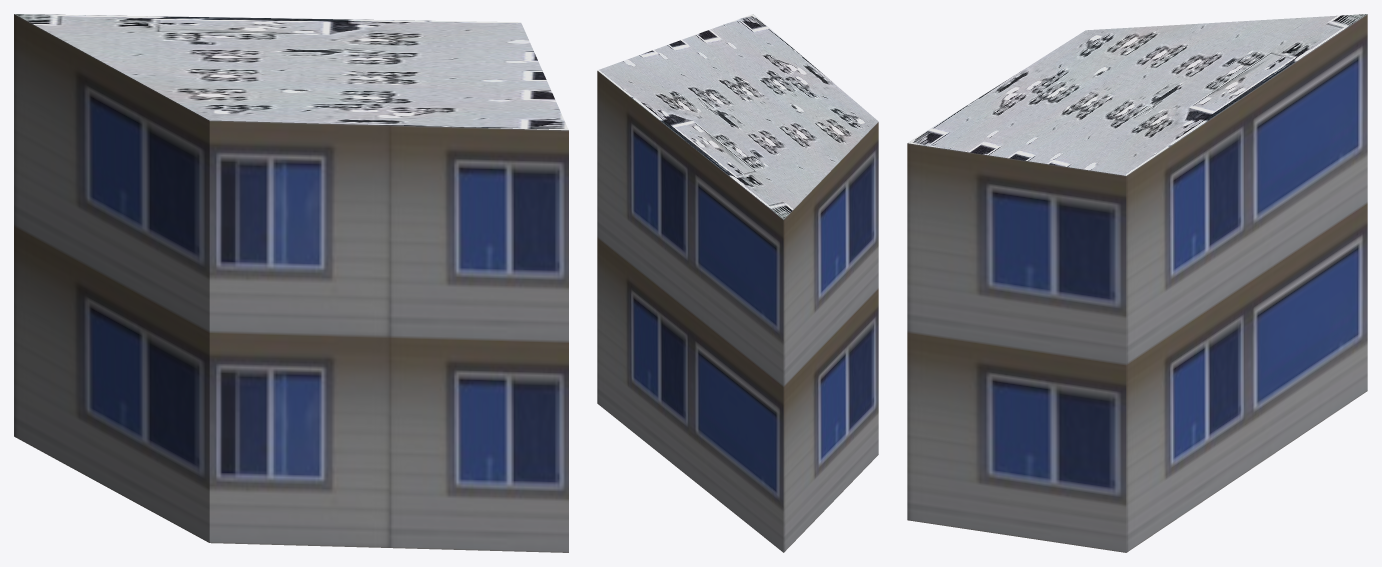
Rendered from ResTex__4672.fbx.
3 renders of one model, left to right at view 1: azimuth 30°, elevation 25°; view 2: azimuth 150°, elevation 25°; view 3: azimuth 270°, elevation 25°, orthographic. The views are drawn at different scales.
Parts seen in each view (by area): view 1: CityEngineMaterial_23_m, CityEngineMaterial_4_m; view 2: CityEngineMaterial_23_m, CityEngineMaterial_4_m; view 3: CityEngineMaterial_23_m, CityEngineMaterial_4_m.
Boxes of the visible parts, x1,y1,x2,y2 form: CityEngineMaterial_23_m: [14, 14, 568, 552]; CityEngineMaterial_4_m: [14, 14, 568, 130]; CityEngineMaterial_23_m: [597, 71, 878, 552]; CityEngineMaterial_4_m: [597, 14, 878, 219]; CityEngineMaterial_23_m: [907, 14, 1367, 552]; CityEngineMaterial_4_m: [907, 14, 1366, 175].
Size of the model in its own units: 5.52 by 6 by 6.64.
2 materials, 2 textured.
